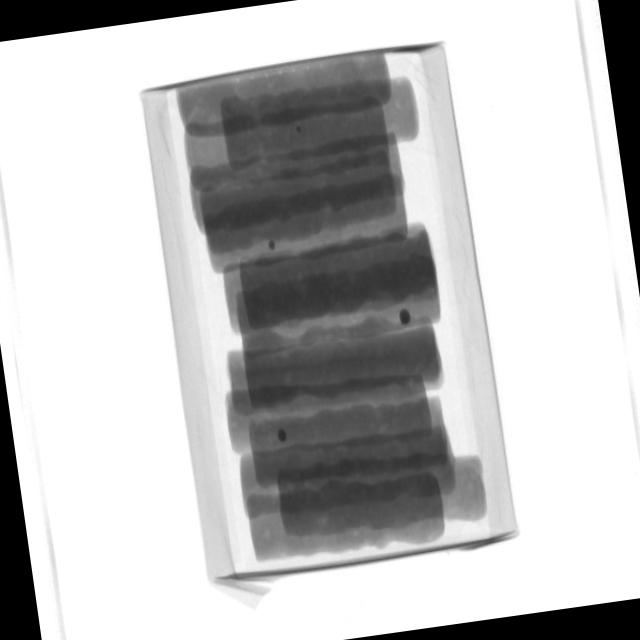ym: (399, 308, 413, 326), (279, 428, 290, 444), (269, 241, 278, 252), (297, 124, 303, 131)
